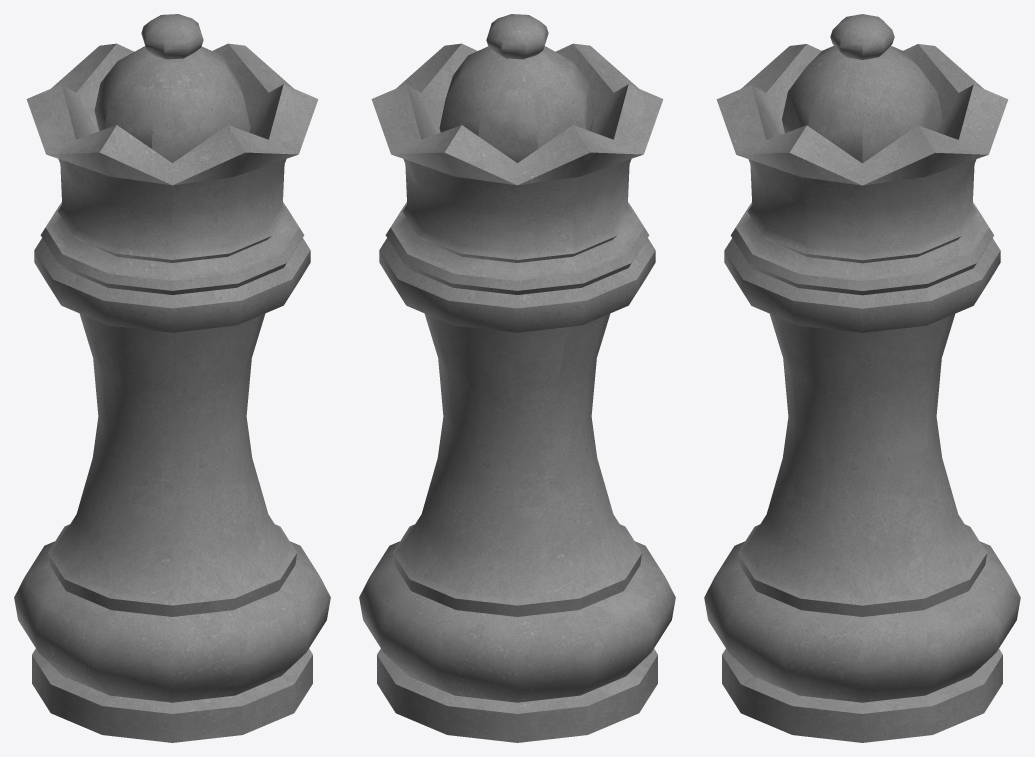
Rendered from SQueen.obj.
3 renders of one model, left to right at view 1: azimuth 30°, elevation 25°; view 2: azimuth 150°, elevation 25°; view 3: azimuth 270°, elevation 25°, orthographic.
Visible parts, largest first — view 1: Queen.002; view 2: Queen.002; view 3: Queen.002.
Part boxes in pixels (box(x1,y1,x2,y2)): Queen.002: box(14, 14, 330, 742); Queen.002: box(359, 14, 675, 742); Queen.002: box(704, 14, 1020, 742).
Size of the model in its own units: 0.1964 by 0.4555 by 0.1964.
Materials: 1 (1 with a texture image).
